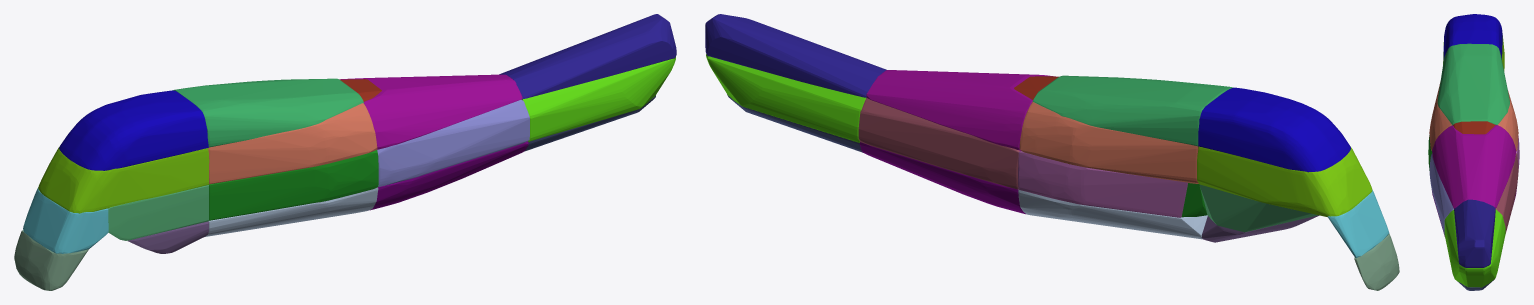
The model's file is shin_split.obj.
3 views of the same model, side by side, from view 1: azimuth 30°, elevation 25°; view 2: azimuth 150°, elevation 25°; view 3: azimuth 270°, elevation 25° (orthographic). The views are drawn at different scales.
Visible parts, largest first — view 1: geometry_5, geometry_10, geometry_14, geometry_9, geometry_4, geometry_18, geometry_8, geometry_12, geometry_17, geometry_3, geometry_2, geometry_6 (+5 smaller); view 2: geometry_5, geometry_10, geometry_14, geometry_9, geometry_18, geometry_4, geometry_13, geometry_7, geometry_17, geometry_6, geometry_11, geometry_3 (+6 smaller); view 3: geometry_14, geometry_10, geometry_18, geometry_17, geometry_5, geometry_9, geometry_12, geometry_13, geometry_15, geometry_16, geometry_4, geometry_8 (+1 smaller).
Part boxes in pixels (bbox=[...]): geometry_5: bbox=[59, 90, 208, 170]; geometry_10: bbox=[173, 78, 363, 147]; geometry_14: bbox=[339, 74, 522, 149]; geometry_9: bbox=[208, 103, 377, 184]; geometry_4: bbox=[38, 147, 209, 213]; geometry_18: bbox=[499, 14, 676, 99]; geometry_8: bbox=[209, 150, 378, 220]; geometry_12: bbox=[377, 99, 529, 186]; geometry_17: bbox=[522, 57, 675, 141]; geometry_3: bbox=[108, 185, 208, 240]; geometry_2: bbox=[23, 187, 108, 253]; geometry_6: bbox=[205, 187, 378, 236]; geometry_5: bbox=[1198, 87, 1350, 172]; geometry_10: bbox=[1032, 75, 1232, 146]; geometry_14: bbox=[866, 70, 1055, 149]; geometry_9: bbox=[1019, 102, 1198, 183]; geometry_18: bbox=[705, 14, 886, 97]; geometry_4: bbox=[1197, 146, 1372, 216]; geometry_13: bbox=[858, 98, 1019, 189]; geometry_7: bbox=[1018, 151, 1187, 217]; geometry_17: bbox=[706, 54, 866, 142]; geometry_6: bbox=[1018, 189, 1207, 239]; geometry_11: bbox=[859, 142, 1025, 214]; geometry_3: bbox=[1199, 184, 1317, 232]; geometry_14: bbox=[1432, 125, 1516, 208]; geometry_10: bbox=[1437, 43, 1509, 125]; geometry_18: bbox=[1454, 199, 1495, 267]; geometry_17: bbox=[1444, 209, 1505, 287]; geometry_5: bbox=[1443, 14, 1502, 60]; geometry_9: bbox=[1429, 81, 1518, 150]; geometry_12: bbox=[1429, 153, 1453, 234]; geometry_13: bbox=[1495, 153, 1518, 233]; geometry_15: bbox=[1453, 121, 1495, 134]; geometry_16: bbox=[1457, 279, 1494, 290]; geometry_4: bbox=[1443, 35, 1504, 70]; geometry_8: bbox=[1428, 135, 1432, 170].
Size of the model in its own units: 0.5768 by 0.1267 by 0.0965.
